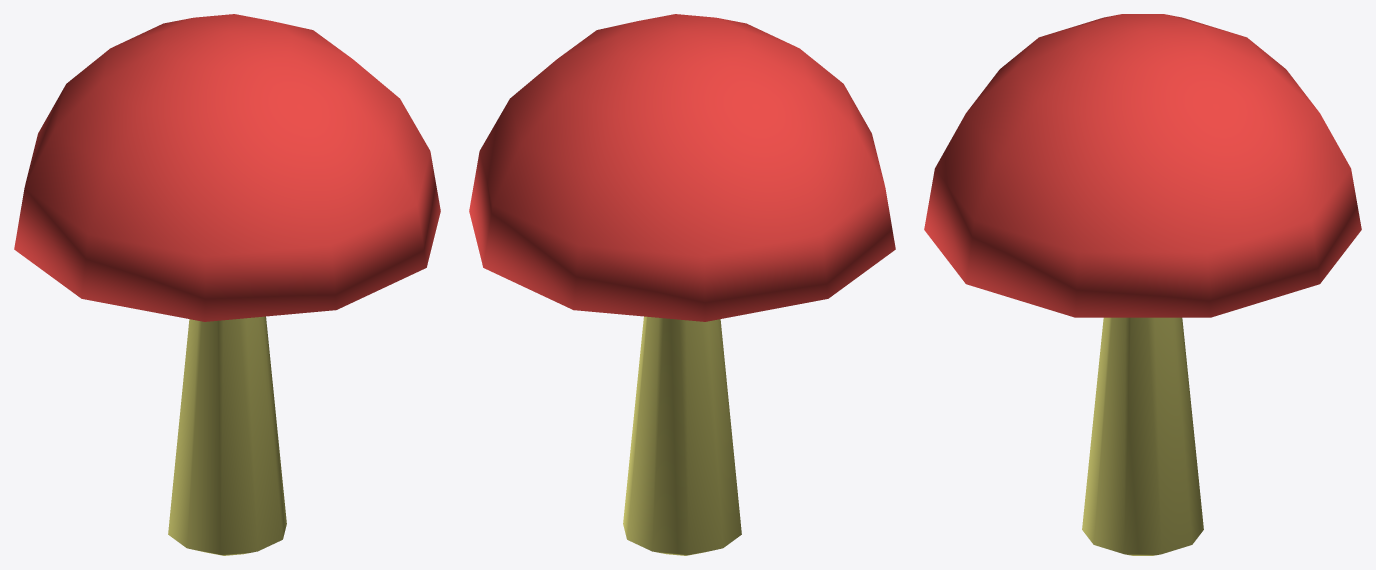
3 renders of one model, left to right at view 1: azimuth 30°, elevation 25°; view 2: azimuth 150°, elevation 25°; view 3: azimuth 270°, elevation 25°, orthographic.
Visible parts, largest first — view 1: Sphere; view 2: Sphere; view 3: Sphere.
Part boxes in pixels (bbox=[...]): Sphere: bbox=[14, 14, 440, 555]; Sphere: bbox=[469, 14, 895, 555]; Sphere: bbox=[924, 14, 1361, 555].
Bounding box in the file's own units: 190 × 260 × 200.
